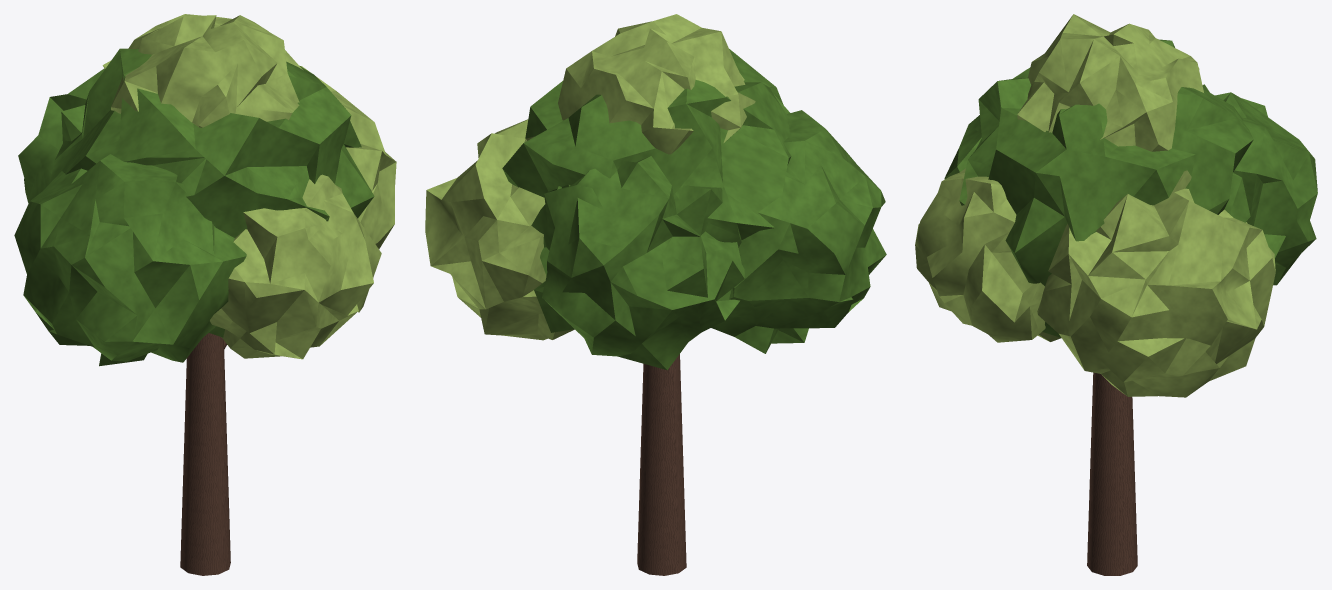
The model's file is env_tree_oak.glb.
3 renders of one model, left to right at view 1: azimuth 30°, elevation 25°; view 2: azimuth 150°, elevation 25°; view 3: azimuth 270°, elevation 25°, orthographic. The views are drawn at different scales.
Visible parts, largest first — view 1: env_tree_oak; view 2: env_tree_oak; view 3: env_tree_oak.
Boxes of the visible parts, x1=… form: env_tree_oak: x1=14, y1=14, x2=396, y2=575; env_tree_oak: x1=425, y1=14, x2=886, y2=575; env_tree_oak: x1=915, y1=14, x2=1317, y2=575.
Size of the model in its own units: 6.05 by 8.17 by 5.56.
3 materials, 3 textured.
